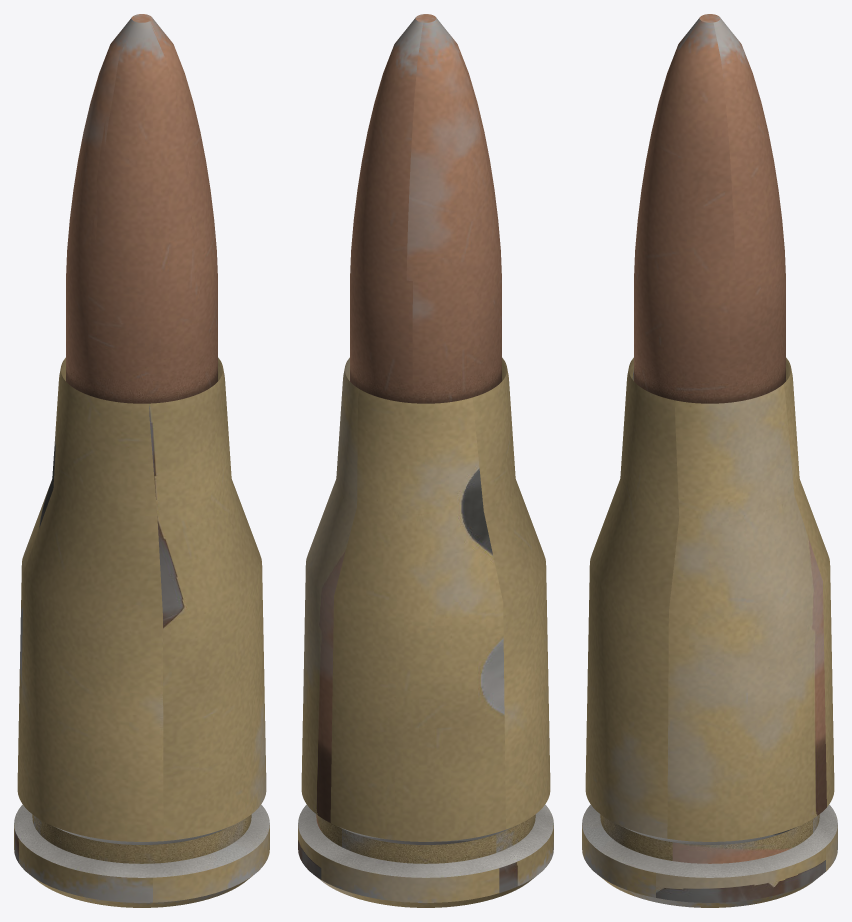
Rendered from round_rifle.glb.
The picture shows the model from 3 angles, left to right: view 1: azimuth 30°, elevation 25°; view 2: azimuth 150°, elevation 25°; view 3: azimuth 270°, elevation 25°; orthographic projection.
Visible parts, largest first — view 1: casing, bullet; view 2: casing, bullet; view 3: casing, bullet.
Boxes of the visible parts, x1=… form: casing: x1=14, y1=357, x2=269, y2=907; bullet: x1=66, y1=14, x2=217, y2=403; casing: x1=298, y1=357, x2=553, y2=907; bullet: x1=350, y1=14, x2=501, y2=403; casing: x1=582, y1=357, x2=837, y2=907; bullet: x1=634, y1=14, x2=785, y2=403.
Bounding box in the file's own units: 0.0074 × 0.0268 × 0.0074.
Materials: 1 (1 with a texture image).
